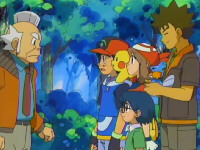mudkip: (149, 61, 176, 91)
pikachu: (109, 48, 137, 82)
